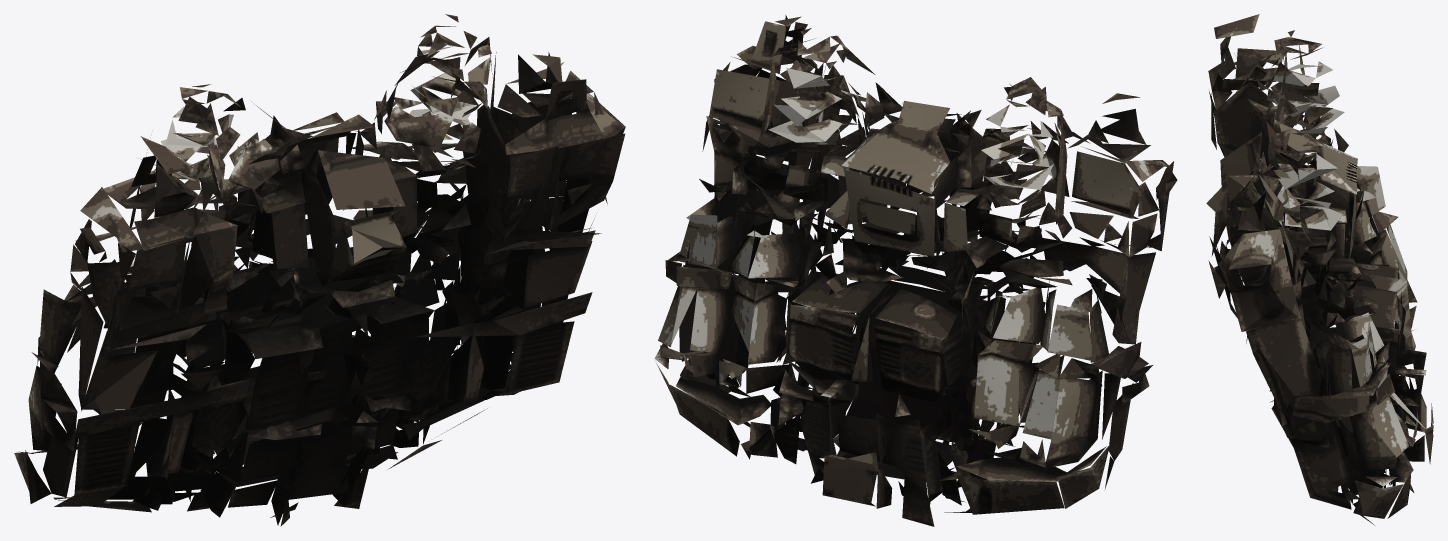
The model's file is mo_reactive.glb.
3 renders of one model, left to right at view 1: azimuth 30°, elevation 25°; view 2: azimuth 150°, elevation 25°; view 3: azimuth 270°, elevation 25°, orthographic. The views are drawn at different scales.
Parts seen in each view (by area): view 1: mo_reactive; view 2: mo_reactive; view 3: mo_reactive.
Part boxes in pixels (x1,y1,x2,y2): mo_reactive: (14, 14, 625, 526); mo_reactive: (654, 15, 1177, 526); mo_reactive: (1206, 14, 1433, 525).
Bounding box in the file's own units: 0.1995 × 0.1731 × 0.0911.
1 material, 1 textured.
